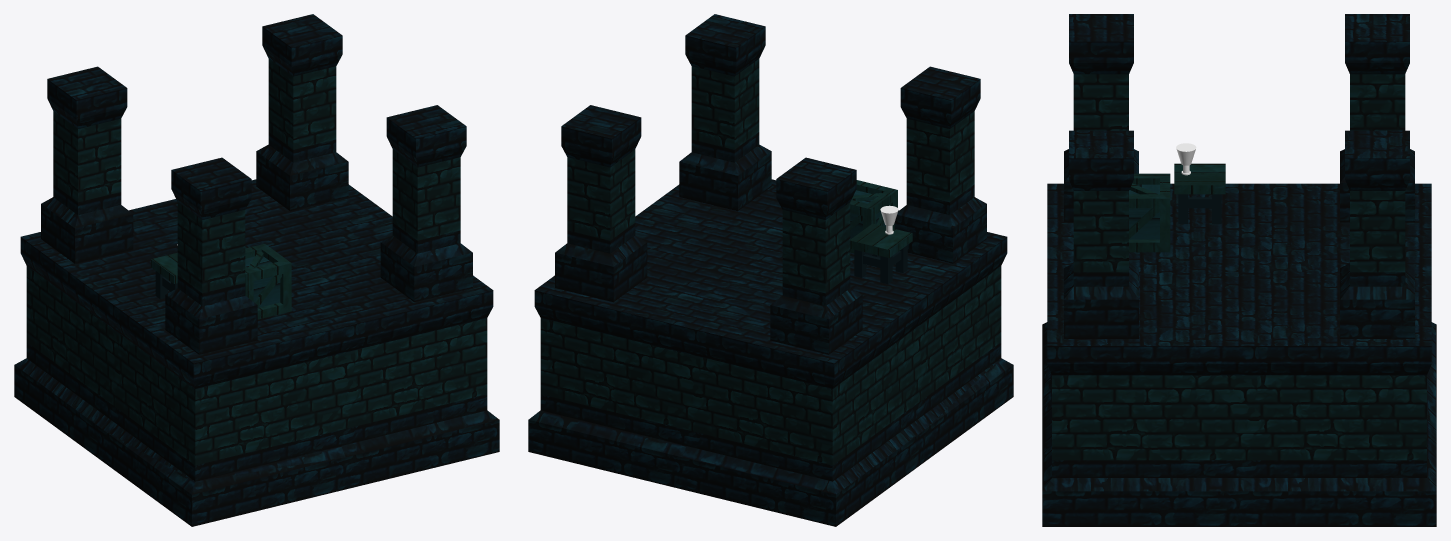
Rendered from dungeon-tile-wine.glb.
The picture shows the model from 3 angles, left to right: view 1: azimuth 30°, elevation 25°; view 2: azimuth 150°, elevation 25°; view 3: azimuth 270°, elevation 25°; orthographic projection. The views are drawn at different scales.
Parts seen in each view (by area): view 1: mergedBlocks(Clone); view 2: mergedBlocks(Clone); view 3: mergedBlocks(Clone).
Boxes of the visible parts, left/top/right/bottom form: mergedBlocks(Clone): left=14, top=14, right=499, bottom=526; mergedBlocks(Clone): left=528, top=14, right=1013, bottom=526; mergedBlocks(Clone): left=1042, top=14, right=1436, bottom=526.
Bounding box in the file's own units: 2 × 2 × 2.
Materials: 6 (4 with a texture image).
